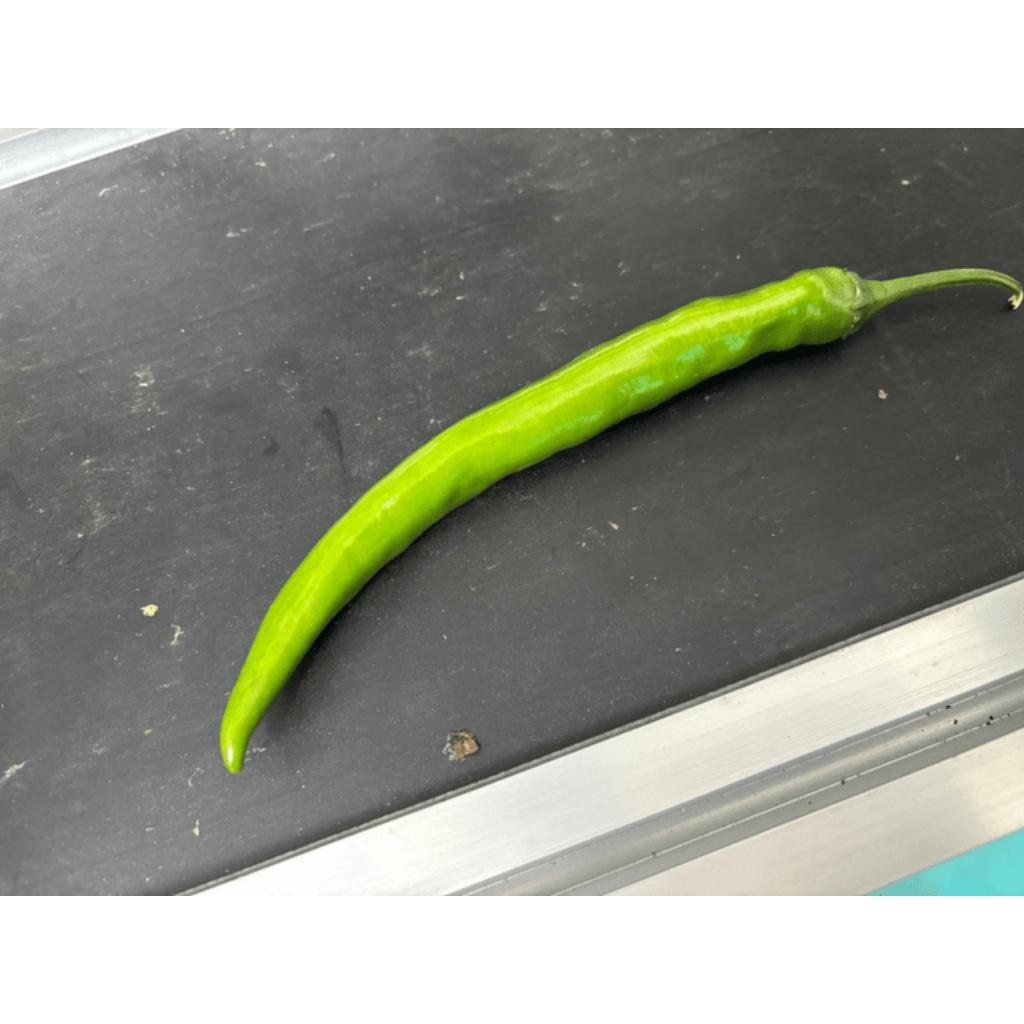chili: (215, 265, 882, 780)
